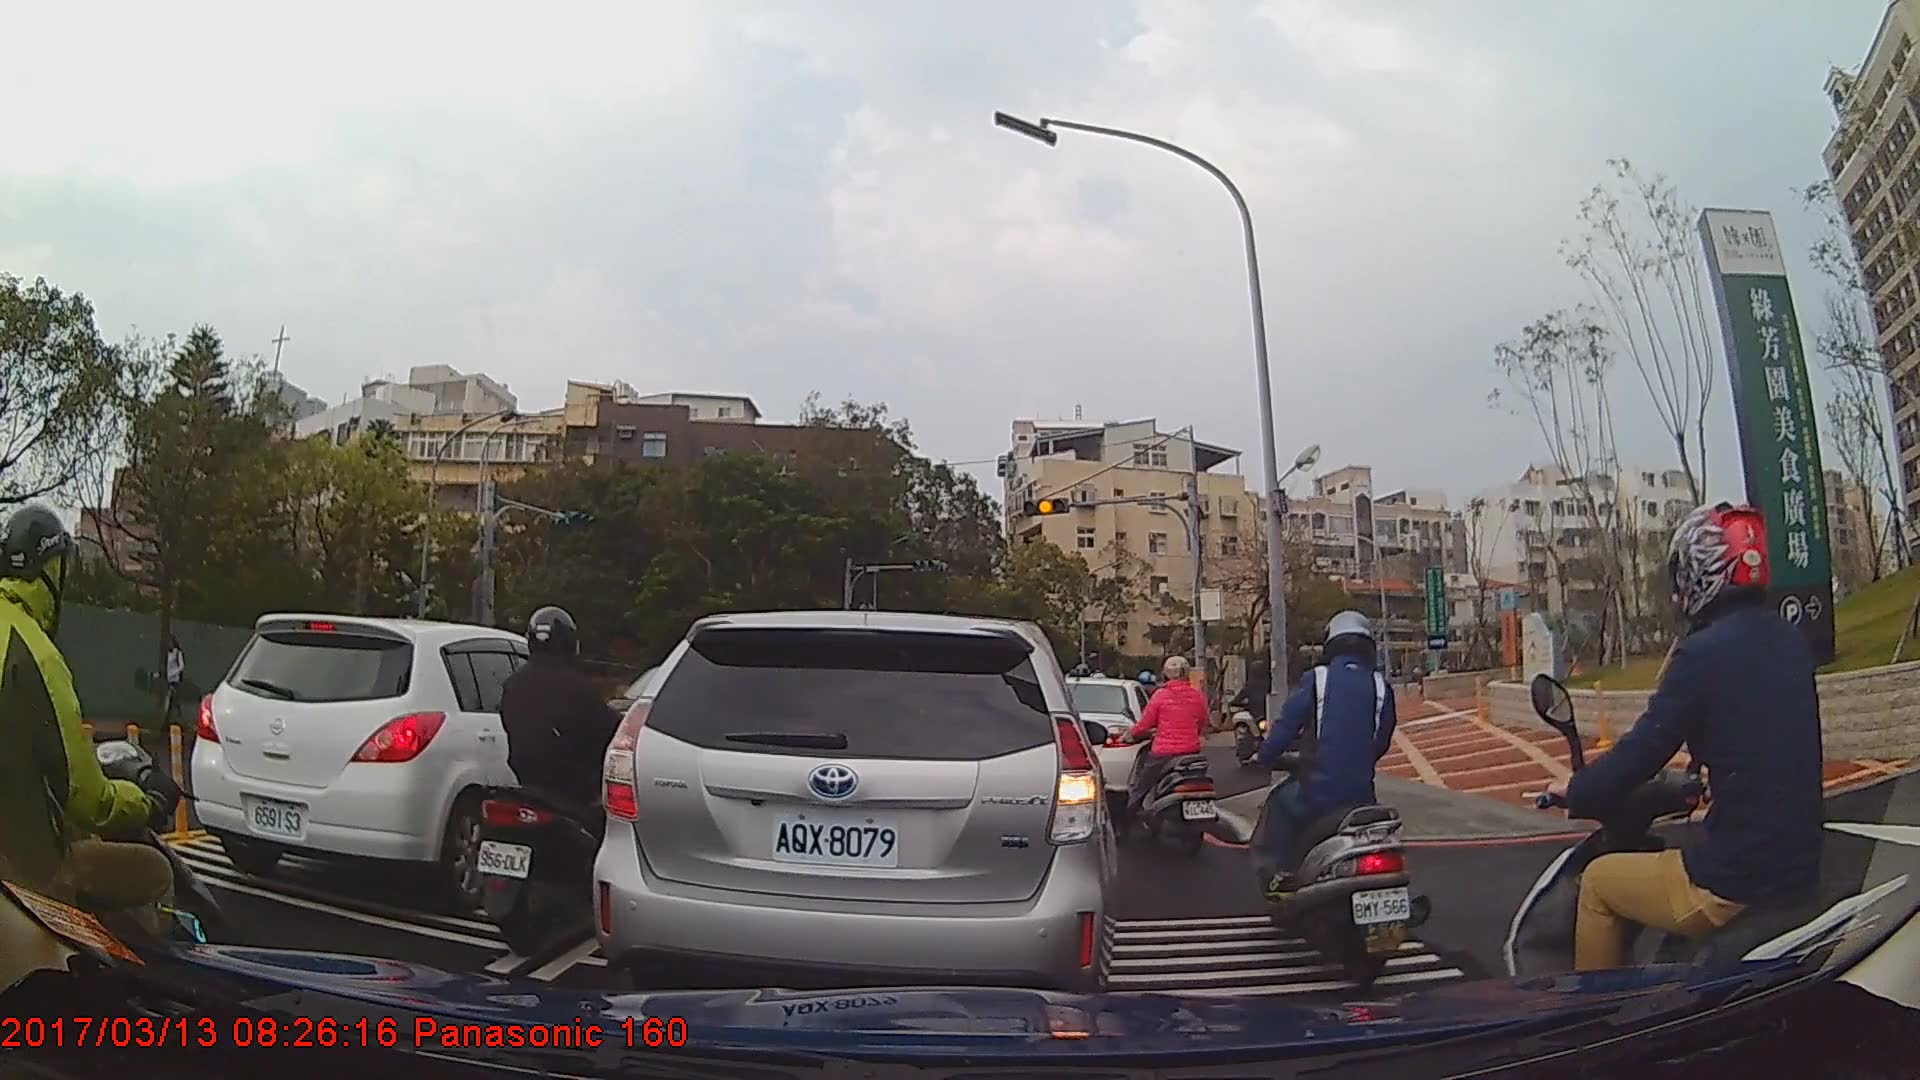pedestrian: (160, 635, 192, 720)
rider: (1501, 499, 1906, 1060), (1, 501, 238, 1075), (1246, 612, 1422, 973), (464, 605, 642, 956), (1114, 653, 1223, 863), (1229, 656, 1276, 763)
vehicle: (589, 606, 1118, 1012), (192, 611, 629, 912)
